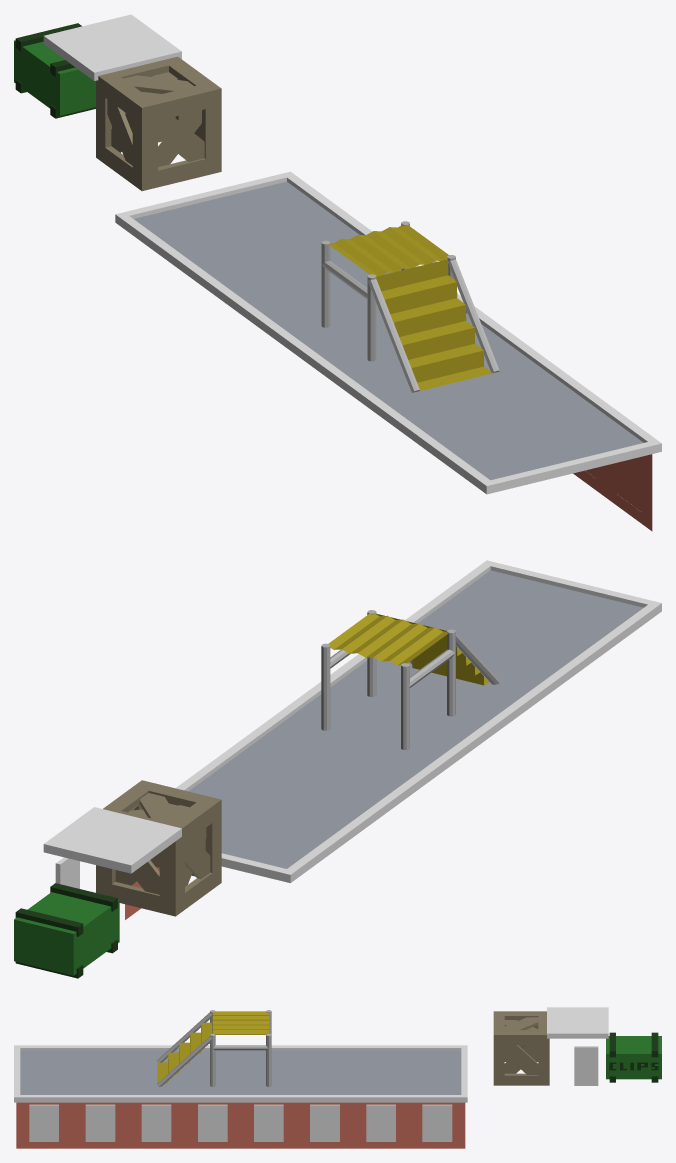
The model's file is cityscape.fbx.
3 views of the same model, one above another, from view 1: azimuth 30°, elevation 25°; view 2: azimuth 150°, elevation 25°; view 3: azimuth 270°, elevation 25° (orthographic). The views are drawn at different scales.
Parts seen in each view (by area): view 1: Plane.003, Crate, Edge.001, Plane.001, Edge, Ammo Box, Plane, Plane.002, Supports.002, Supports, Bar; view 2: Plane.003, Edge.001, Crate, Ammo Box, Edge, Plane, Supports, Bar, Plane.001, Supports.001, Door; view 3: Plane.003, Plane.002, Cube, Edge.001, Crate, Ammo Box, Edge, Plane, Door, Plane.001, Supports.002, Supports (+2 smaller).
Part boxes in pixels (x1,y1,x2,y2): Plane.003: (134, 181, 643, 480); Crate: (96, 56, 221, 191); Edge.001: (115, 171, 661, 494); Plane.001: (376, 259, 492, 390); Edge: (43, 14, 181, 80); Ammo Box: (14, 40, 95, 115); Plane: (328, 225, 448, 276); Plane.002: (573, 454, 652, 531); Supports.002: (368, 259, 499, 392); Supports: (321, 221, 455, 361); Bar: (15, 23, 95, 118); Plane.003: (188, 570, 643, 868); Edge.001: (176, 560, 661, 882); Crate: (96, 780, 221, 916); Ammo Box: (14, 892, 119, 975); Edge: (43, 807, 181, 873); Plane: (328, 613, 448, 665); Supports: (321, 610, 455, 750); Bar: (15, 883, 117, 978); Plane.001: (376, 613, 488, 685); Supports.001: (330, 649, 455, 687); Door: (55, 857, 79, 888); Plane.003: (20, 1050, 461, 1094); Plane.002: (16, 1102, 465, 1148); Cube: (29, 1104, 452, 1141); Edge.001: (14, 1045, 467, 1102); Crate: (493, 1011, 549, 1085); Ammo Box: (606, 1036, 661, 1079); Edge: (547, 1007, 608, 1038); Plane: (212, 1011, 268, 1034); Door: (574, 1046, 598, 1085); Plane.001: (157, 1014, 212, 1083); Supports.002: (157, 1012, 212, 1086); Supports: (210, 1010, 271, 1086).
Bounding box in the file's own units: 440 × 410 × 2308.
